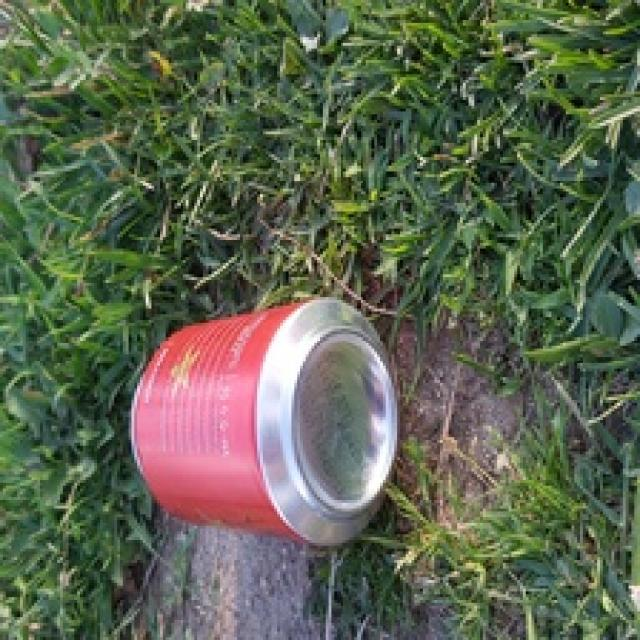recyclable: (132, 299, 399, 550)
